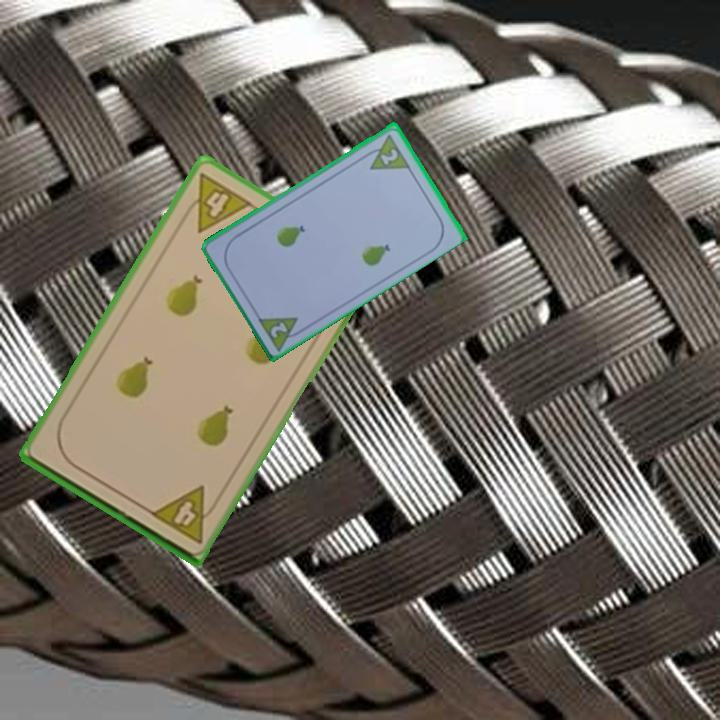2p: (254, 312, 309, 353), (377, 144, 401, 167)
4p: (176, 169, 255, 236), (146, 482, 223, 546)
